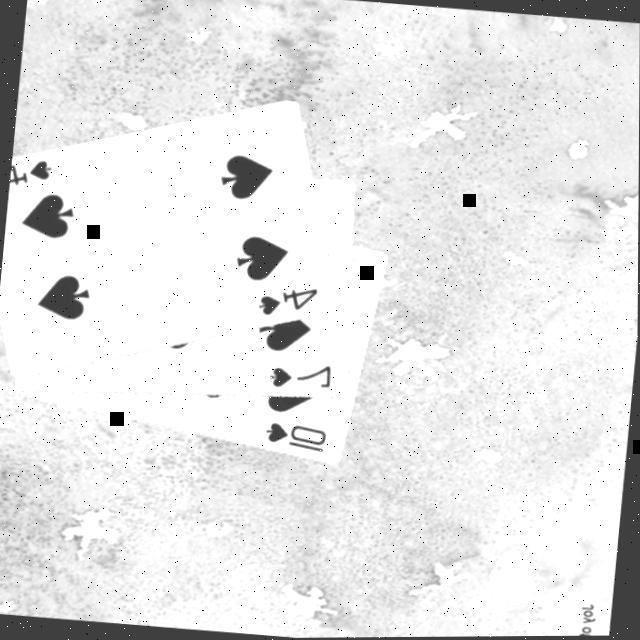10S: (260, 416, 330, 456)
4S: (254, 278, 321, 322), (10, 152, 56, 192)
7S: (265, 355, 336, 393)
